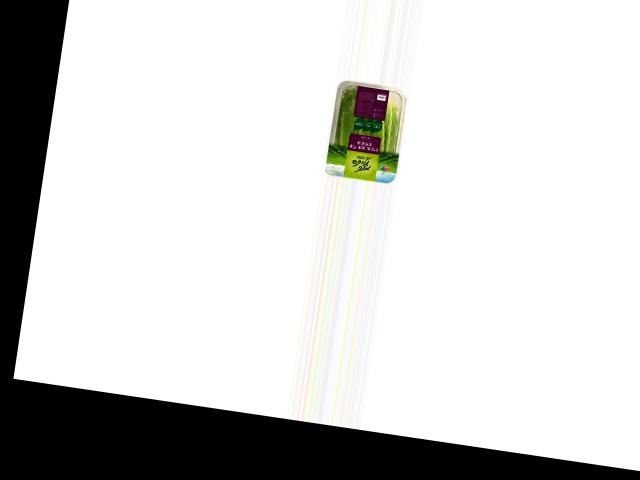lettuce: (325, 78, 410, 178)
